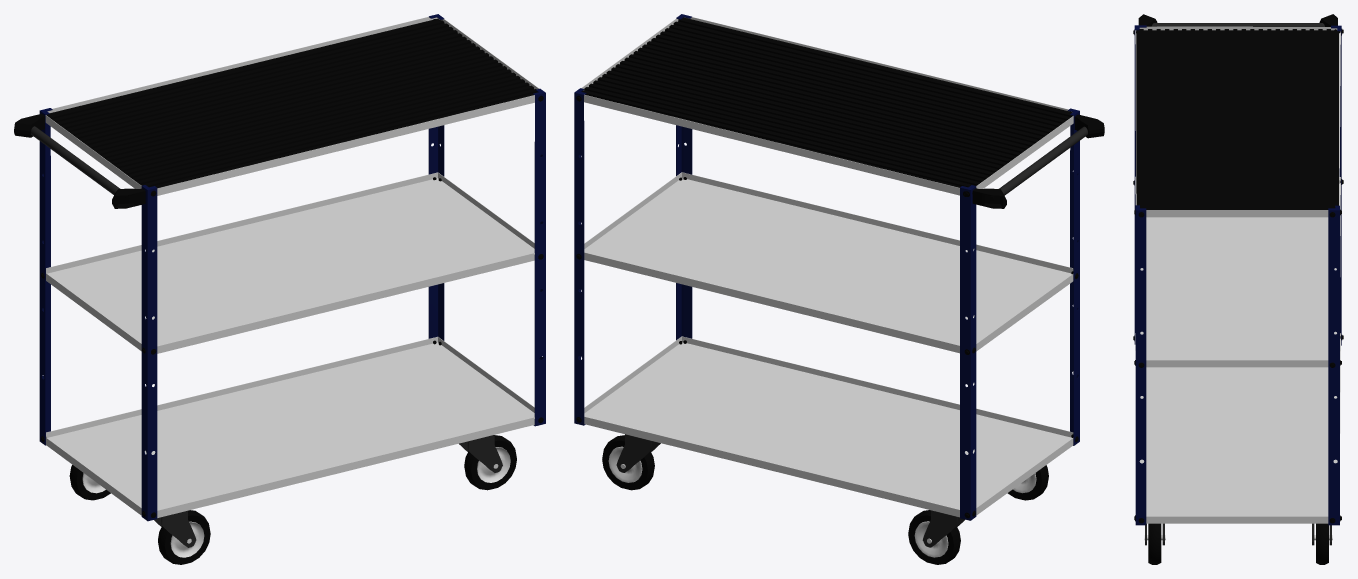
3 renders of one model, left to right at view 1: azimuth 30°, elevation 25°; view 2: azimuth 150°, elevation 25°; view 3: azimuth 270°, elevation 25°, orthographic. The views are drawn at different scales.
Visible parts, largest first — view 1: shelf, flooring, wall, wall003, wall001, wall002, the_latch_handle, wheel002, wheel, handle, fasteners_wheels_5, fasteners_wheels; view 2: shelf, flooring, wall001, wall002, wall, wall003, the_latch_handle, wheel003, wheel001, handle, fasteners_wheels_8, fasteners_wheels_4; view 3: shelf, flooring, wall002, wall003, handle, wall, wall001, wheel002, wheel003, Bolt_3, the_latch_handle.
Part boxes in pixels (x1,y1,x2,y2): shelf: [45, 16, 539, 517]; flooring: [46, 18, 537, 188]; wall: [141, 185, 157, 521]; wall003: [533, 88, 545, 426]; wall001: [39, 108, 52, 445]; wall002: [428, 14, 444, 340]; the_latch_handle: [14, 114, 145, 208]; wheel002: [464, 435, 516, 490]; wheel: [158, 510, 210, 564]; handle: [31, 126, 120, 194]; fasteners_wheels_5: [467, 435, 502, 472]; fasteners_wheels: [161, 510, 196, 547]; shelf: [581, 17, 1073, 517]; flooring: [581, 17, 1072, 187]; wall001: [960, 185, 976, 520]; wall002: [574, 88, 586, 425]; wall: [1067, 108, 1079, 445]; wall003: [676, 14, 692, 340]; the_latch_handle: [972, 114, 1104, 208]; wheel003: [602, 435, 654, 490]; wheel001: [908, 510, 960, 564]; handle: [999, 126, 1087, 195]; fasteners_wheels_8: [616, 434, 651, 472]; fasteners_wheels_4: [922, 510, 957, 547]; shelf: [1135, 26, 1340, 523]; flooring: [1136, 29, 1338, 209]; wall002: [1328, 205, 1339, 525]; wall003: [1135, 205, 1146, 525]; handle: [1151, 23, 1324, 26]; wall: [1134, 25, 1146, 344]; wall001: [1331, 25, 1341, 345]; wheel002: [1148, 523, 1161, 564]; wheel003: [1316, 523, 1328, 564]; Bolt_3: [1133, 29, 1343, 523]; the_latch_handle: [1138, 14, 1337, 26].
Size of the model in its own units: 785 by 684 by 350.
